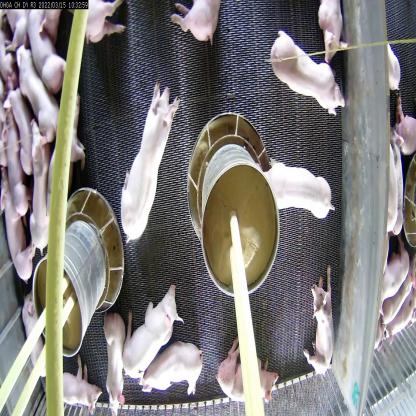Pig: (118, 88, 178, 247), (13, 46, 73, 160), (268, 30, 348, 115), (261, 151, 333, 221), (126, 287, 177, 368), (220, 344, 278, 415), (0, 114, 31, 233), (32, 2, 67, 103), (301, 276, 334, 376), (26, 131, 52, 256), (13, 290, 46, 387), (0, 177, 28, 291), (100, 310, 129, 415), (44, 362, 101, 415), (155, 339, 201, 398), (167, 0, 220, 44)
